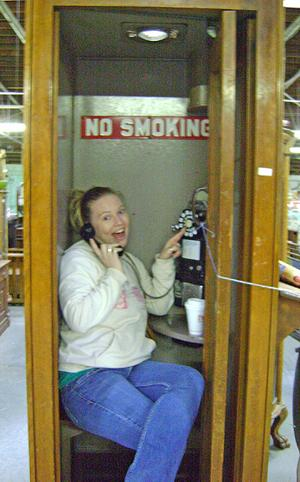person: (58, 180, 203, 482)
